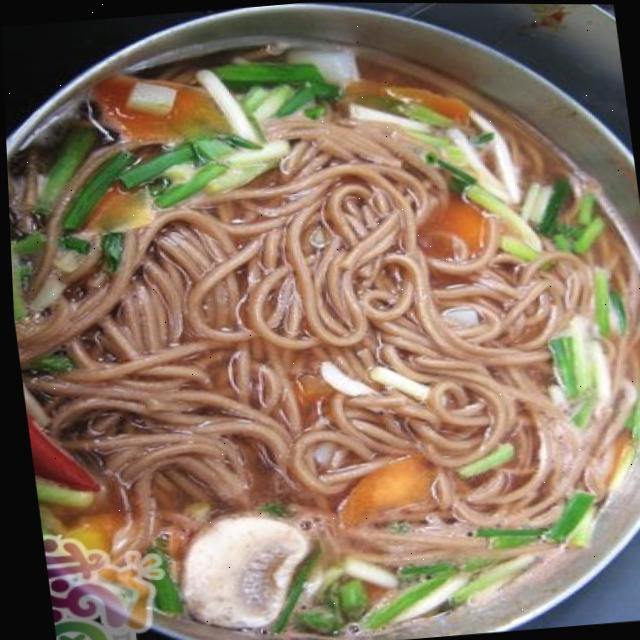面条主食: (2, 57, 640, 626)
